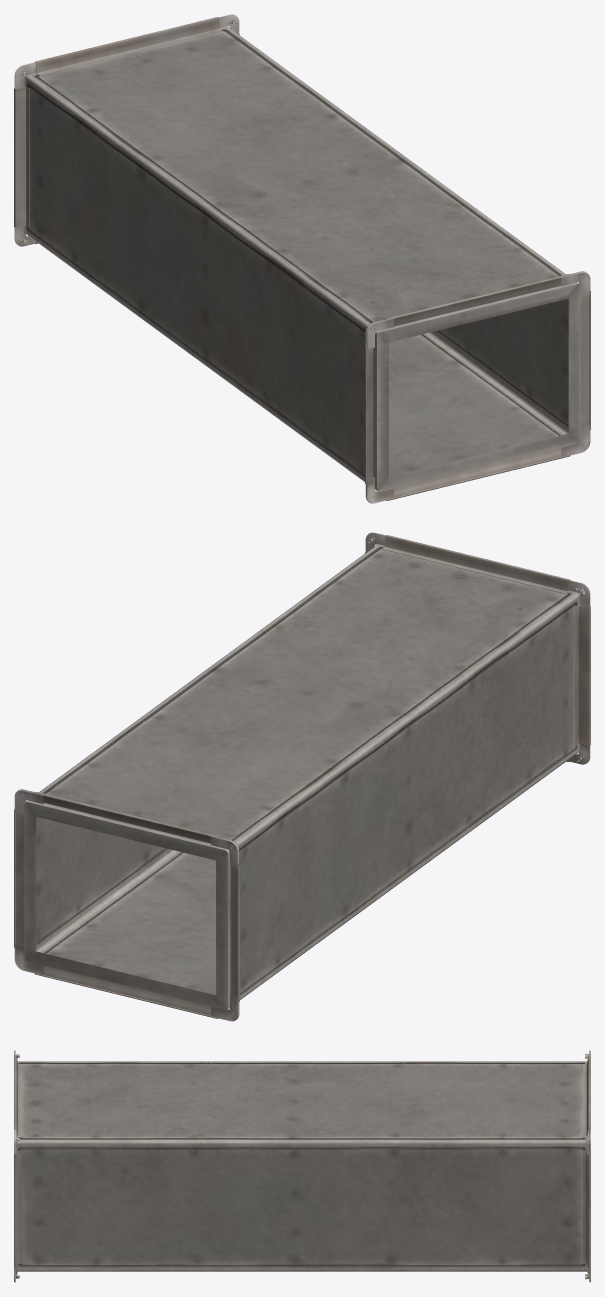
File: modular_airduct_rectangular_01.gltf
3 renders of one model, top to bottom at view 1: azimuth 30°, elevation 25°; view 2: azimuth 150°, elevation 25°; view 3: azimuth 270°, elevation 25°, orthographic. The views are drawn at different scales.
Visible parts, largest first — view 1: modular_airduct_rectangular_01; view 2: modular_airduct_rectangular_01; view 3: modular_airduct_rectangular_01.
Part boxes in pixels (<box>): modular_airduct_rectangular_01: <box>14,14,590,503</box>; modular_airduct_rectangular_01: <box>14,532,590,1021</box>; modular_airduct_rectangular_01: <box>14,1050,590,1282</box>.
Bounding box in the file's own units: 0.6634 × 0.5126 × 1.8.
Materials: 1 (1 with a texture image).
